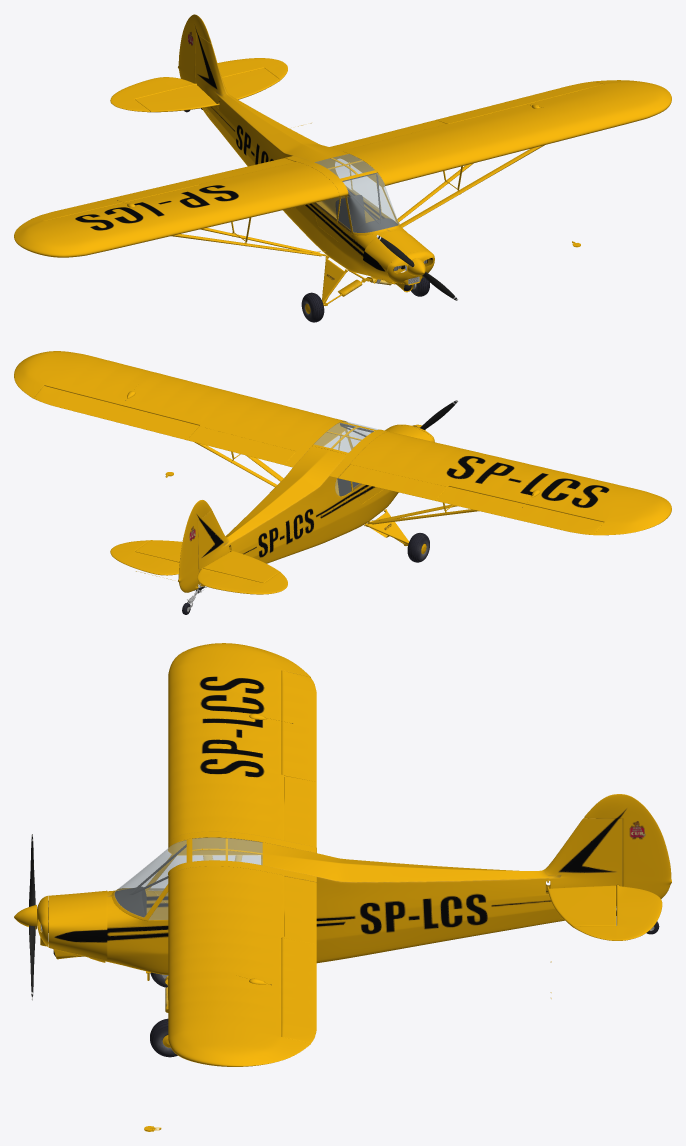
File: piper_pa18.glb
3 views of the same model, one above another, from view 1: azimuth 30°, elevation 25°; view 2: azimuth 150°, elevation 25°; view 3: azimuth 270°, elevation 25° (orthographic). The views are drawn at different scales.
Parts seen in each view (by area): view 1: fuselage_wings, fuselage01, windshield01, horizontal_stab01, elevator01, fuselage02, windshield02, aileron_L01, aileron_R01, rudder01, wing_support_L01, fuselage_wings02 (+7 smaller); view 2: fuselage_wings, fuselage01, aileron_L01, aileron_R01, elevator01, horizontal_stab01, flap_L01, flap_R01, rudder01, fuselage_wings02, windshield01, wing_support_R01 (+5 smaller); view 3: fuselage_wings, fuselage01, rudder01, fuselage02, windshield01, aileron_R01, aileron_L01, elevator01, horizontal_stab01, flap_R01, flap_L01, fuselage_wings02 (+1 smaller).
Part boxes in pixels (x1=…): fuselage_wings: x1=14, y1=80, x2=671, y2=257; fuselage01: x1=195, y1=33, x2=407, y2=276; windshield01: x1=315, y1=154, x2=398, y2=232; horizontal_stab01: x1=135, y1=68, x2=280, y2=112; elevator01: x1=110, y1=58, x2=287, y2=112; fuselage02: x1=363, y1=230, x2=434, y2=283; windshield02: x1=316, y1=159, x2=395, y2=229; aileron_L01: x1=436, y1=81, x2=603, y2=123; aileron_R01: x1=34, y1=180, x2=198, y2=220; rudder01: x1=178, y1=14, x2=211, y2=83; wing_support_L01: x1=397, y1=145, x2=544, y2=227; fuselage_wings02: x1=285, y1=145, x2=392, y2=197; fuselage_wings: x1=14, y1=351, x2=671, y2=535; fuselage01: x1=198, y1=421, x2=398, y2=586; aileron_L01: x1=33, y1=385, x2=199, y2=440; aileron_R01: x1=435, y1=486, x2=603, y2=534; elevator01: x1=110, y1=540, x2=287, y2=594; horizontal_stab01: x1=135, y1=540, x2=279, y2=582; flap_L01: x1=187, y1=426, x2=295, y2=465; flap_R01: x1=338, y1=464, x2=447, y2=500; rudder01: x1=178, y1=500, x2=211, y2=592; fuselage_wings02: x1=285, y1=418, x2=389, y2=478; windshield01: x1=314, y1=421, x2=378, y2=452; wing_support_R01: x1=371, y1=504, x2=479, y2=524; fuselage_wings: x1=168, y1=643, x2=315, y2=1066; fuselage01: x1=105, y1=818, x2=622, y2=974; rudder01: x1=584, y1=794, x2=671, y2=898; fuselage02: x1=37, y1=890, x2=107, y2=960; windshield01: x1=114, y1=837, x2=262, y2=917; aileron_R01: x1=281, y1=670, x2=316, y2=781; aileron_L01: x1=281, y1=938, x2=316, y2=1043; elevator01: x1=573, y1=885, x2=662, y2=940; horizontal_stab01: x1=547, y1=880, x2=615, y2=927; flap_R01: x1=284, y1=776, x2=316, y2=847; flap_L01: x1=284, y1=876, x2=316, y2=944; fuselage_wings02: x1=168, y1=831, x2=316, y2=882.
Size of the model in its own units: 10.69 by 2.69 by 7.05.
Materials: 8 (4 with a texture image).
